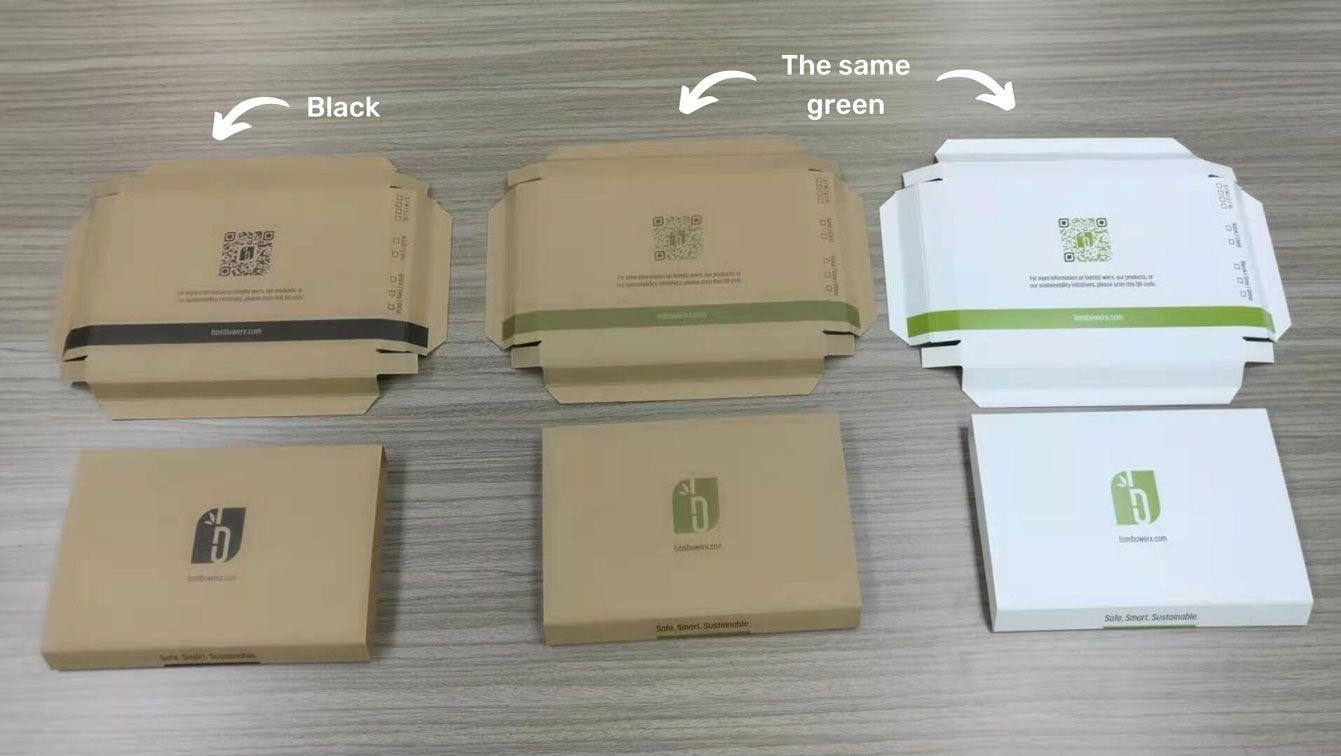cardboard: (53, 156, 451, 419), (486, 139, 874, 402), (882, 138, 1289, 359), (966, 408, 1310, 631), (42, 445, 384, 669), (543, 413, 859, 645)
